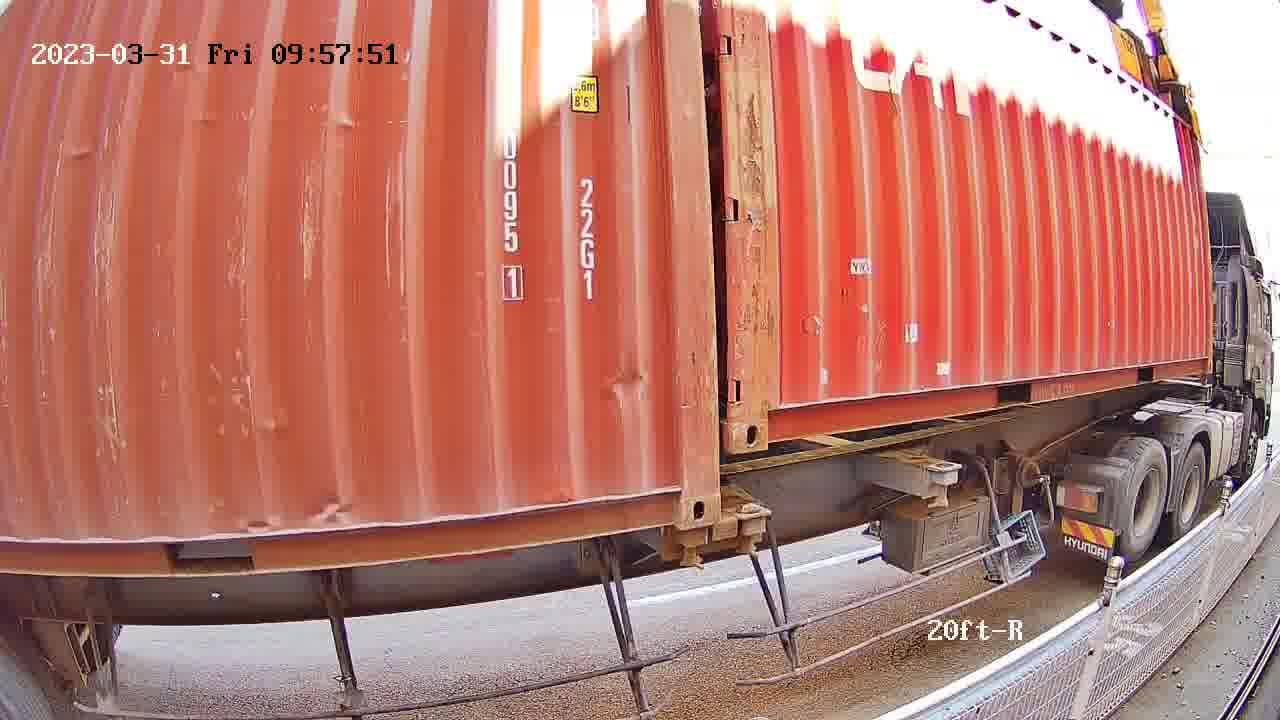Cone: (732, 501, 766, 558), (673, 526, 712, 572)
Hole_L: (727, 375, 801, 453)
Hole_R: (639, 447, 718, 528)
Tire: (1118, 440, 1167, 556), (1175, 447, 1207, 536)
